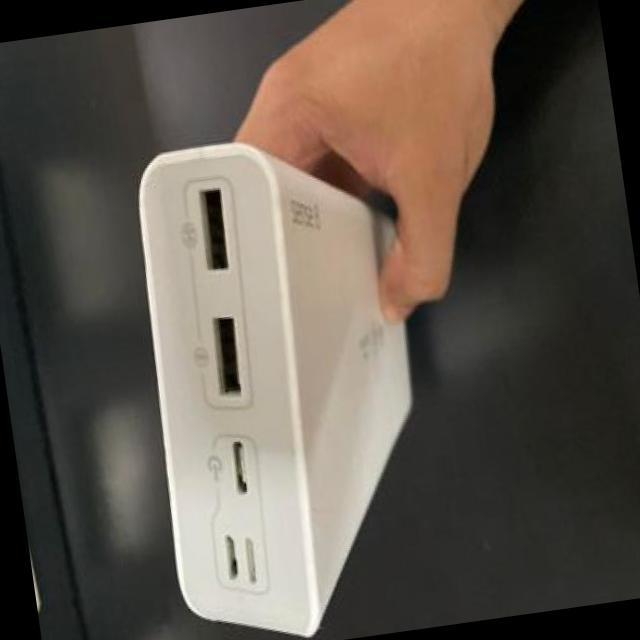portable-charger: (64, 112, 468, 640)
